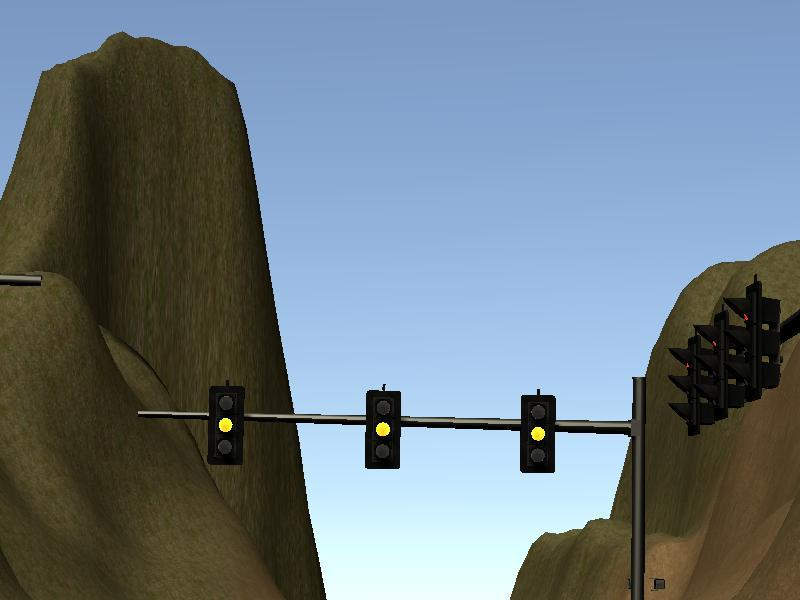Yellow: (207, 384, 246, 467), (364, 389, 400, 468), (520, 396, 555, 472)
